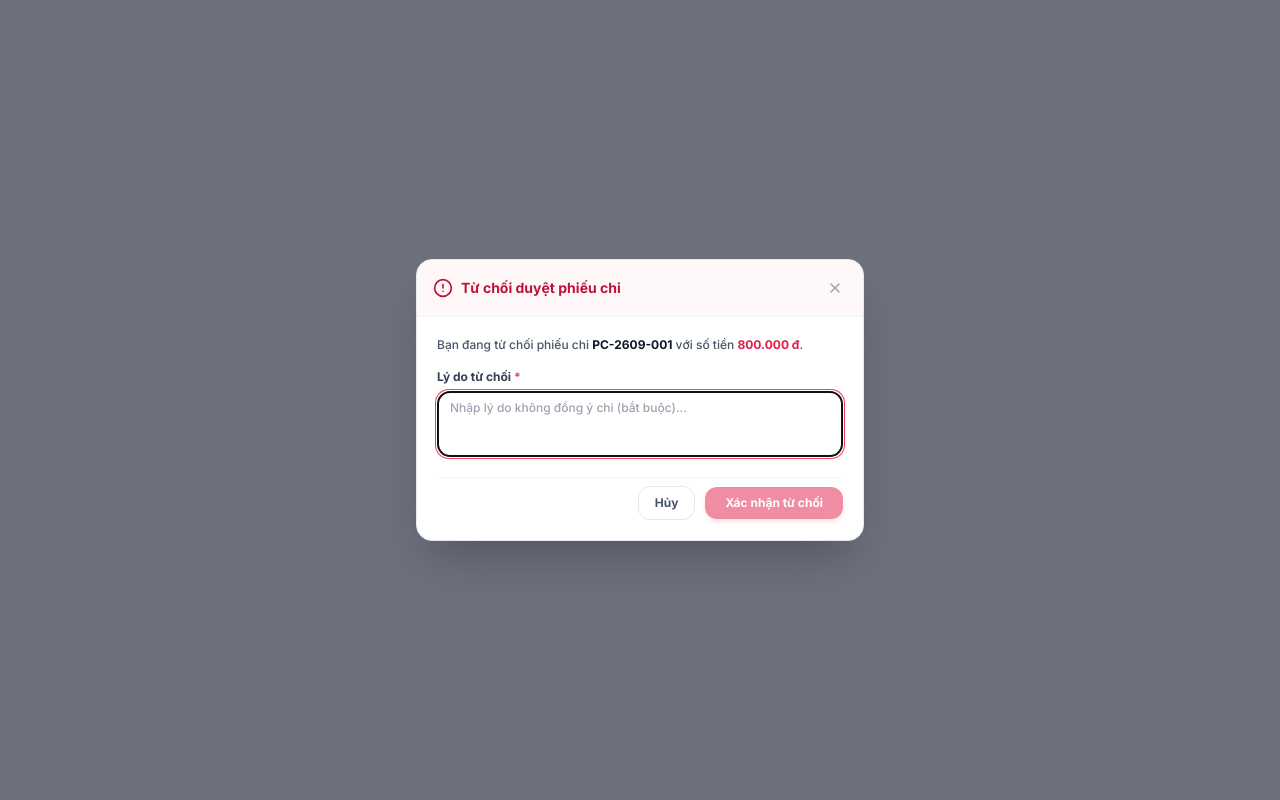
Test: NCL-03-CN-014: Ghi thu chi tiền mặt ngoài bán hàng trong ca › TC-02: Cơ chế kiểm soát hạn mức duyệt chi (> 500k) và phê duyệt của Chủ hộ › modal từ chối phiếu chi yêu cầu nhập lý do bắt buộc trước khi xác nhận
Check: the heading "Từ chối duyệt phiếu chi" is shown, box [461,278,621,298]
Check: the text "PC-2609-001" is shown, box [592,337,672,352]
Note: Nhập lý do từ chối
Type "Chi phí không hợp lệ" into the text box with placeholder "Nhập lý do không đồng ý chi (bắt buộc)..." at (640, 424), box [437,391,843,457]
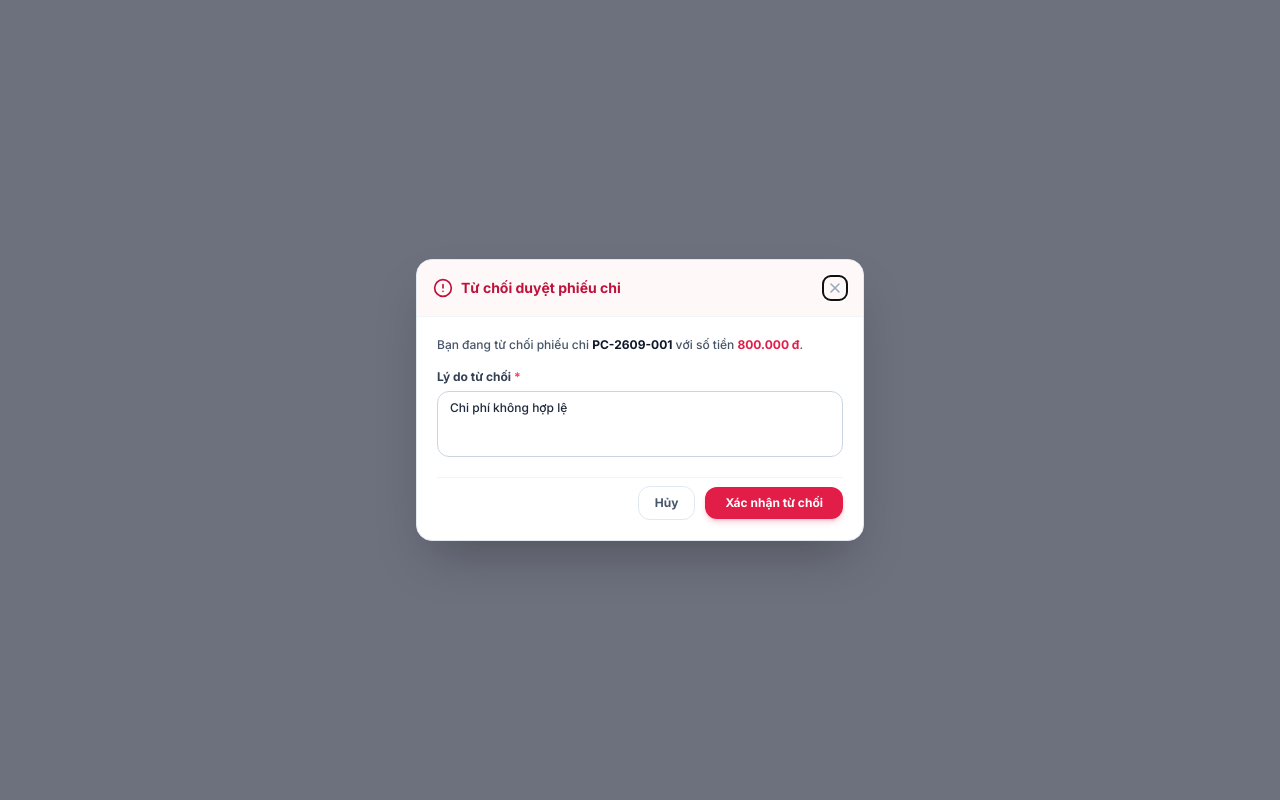
Check: the button "Xác nhận từ chối" is enabled, box [705,487,843,519]
